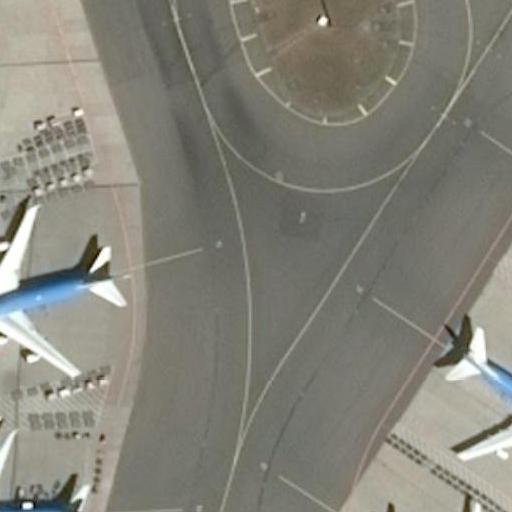Aircraft: (0, 198, 125, 377), (428, 309, 512, 461), (0, 432, 102, 512), (364, 493, 512, 512)
